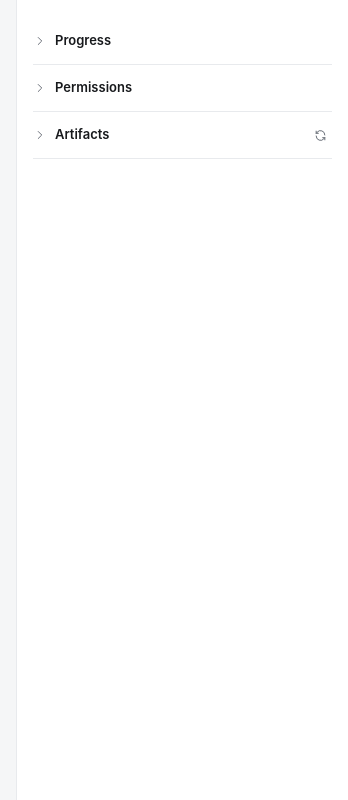
it: RightRail permissions section and footer › shows the empty line when this session has no approval requests
What coordinates should you click on to do the following:
click the button "Permissions"
I would click on:
 (94, 87)
Its box is [33,78,332,98].
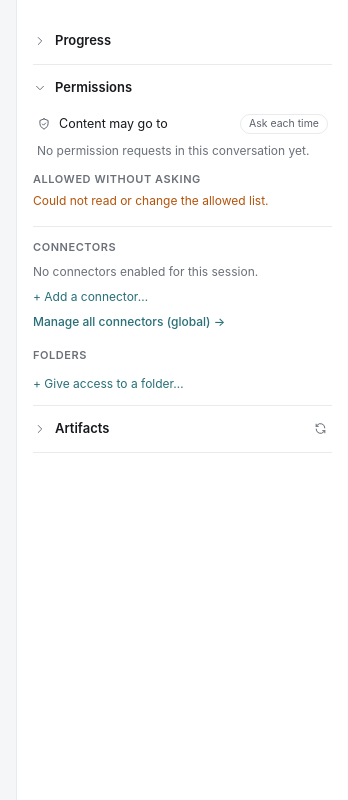
Check: the text "No permission requests in this conversation yet." is shown, box [33,142,332,159]
